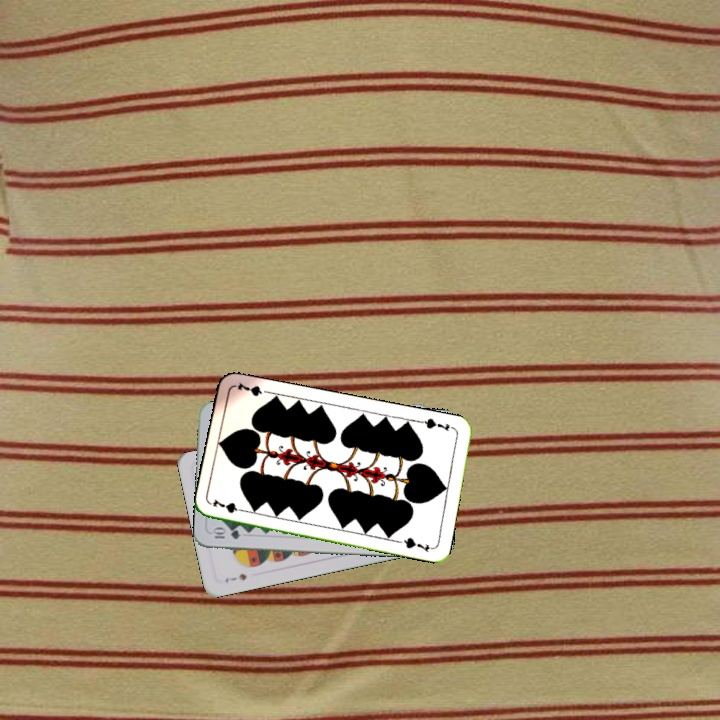G10: (208, 526, 242, 542)
G7: (209, 495, 249, 516), (417, 414, 457, 434)
S7: (221, 570, 249, 585)
